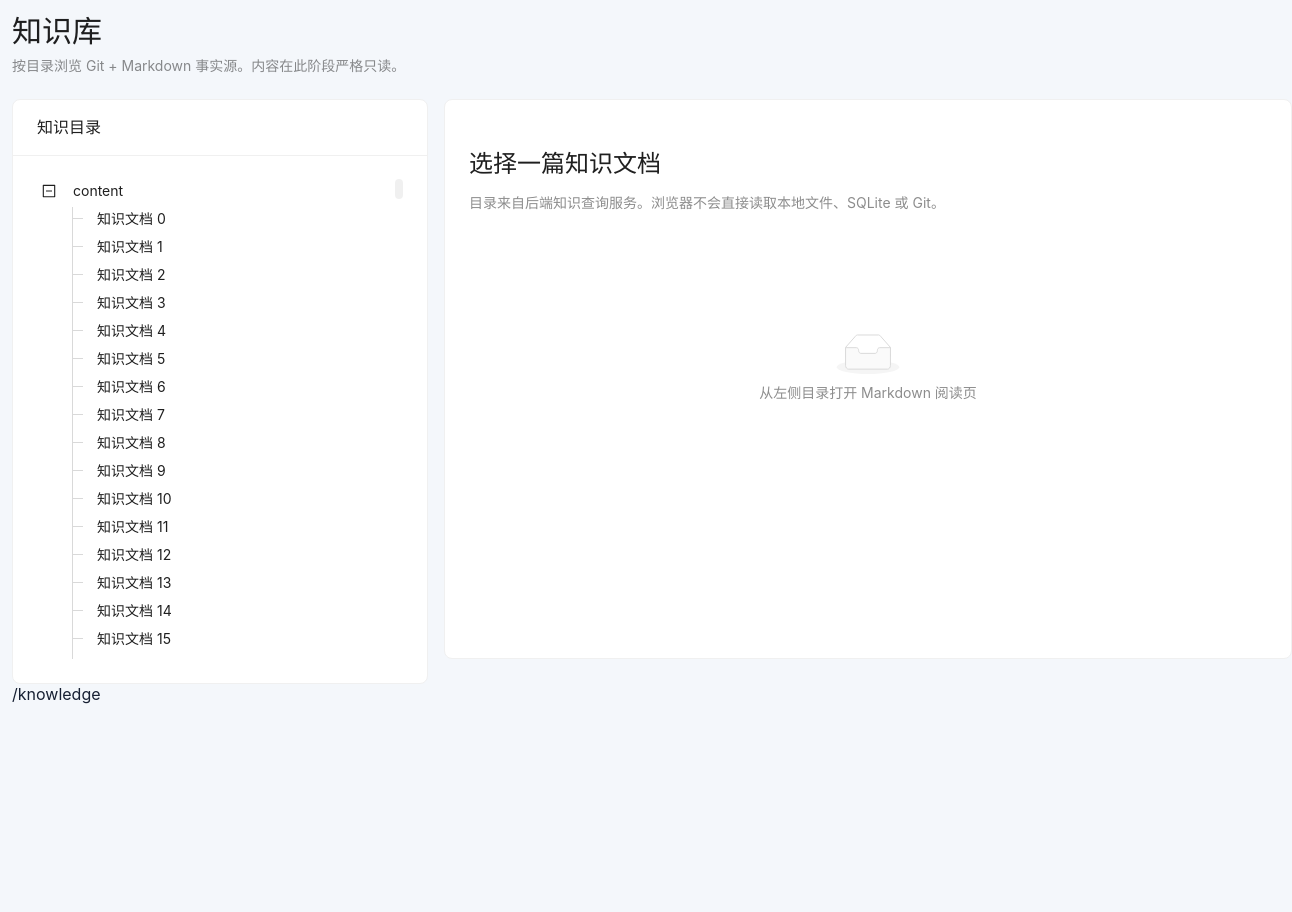
KnowledgePage › 虚拟化后仍可选择可见文档并通过逻辑 ID 打开详情
The width and height of the screenshot is (1292, 912).
What coordinates should you click on to do the following:
click the text "知识文档 0"
I would click on:
 (131, 218)
Its box is x1=97 y1=210 x2=166 y2=227.
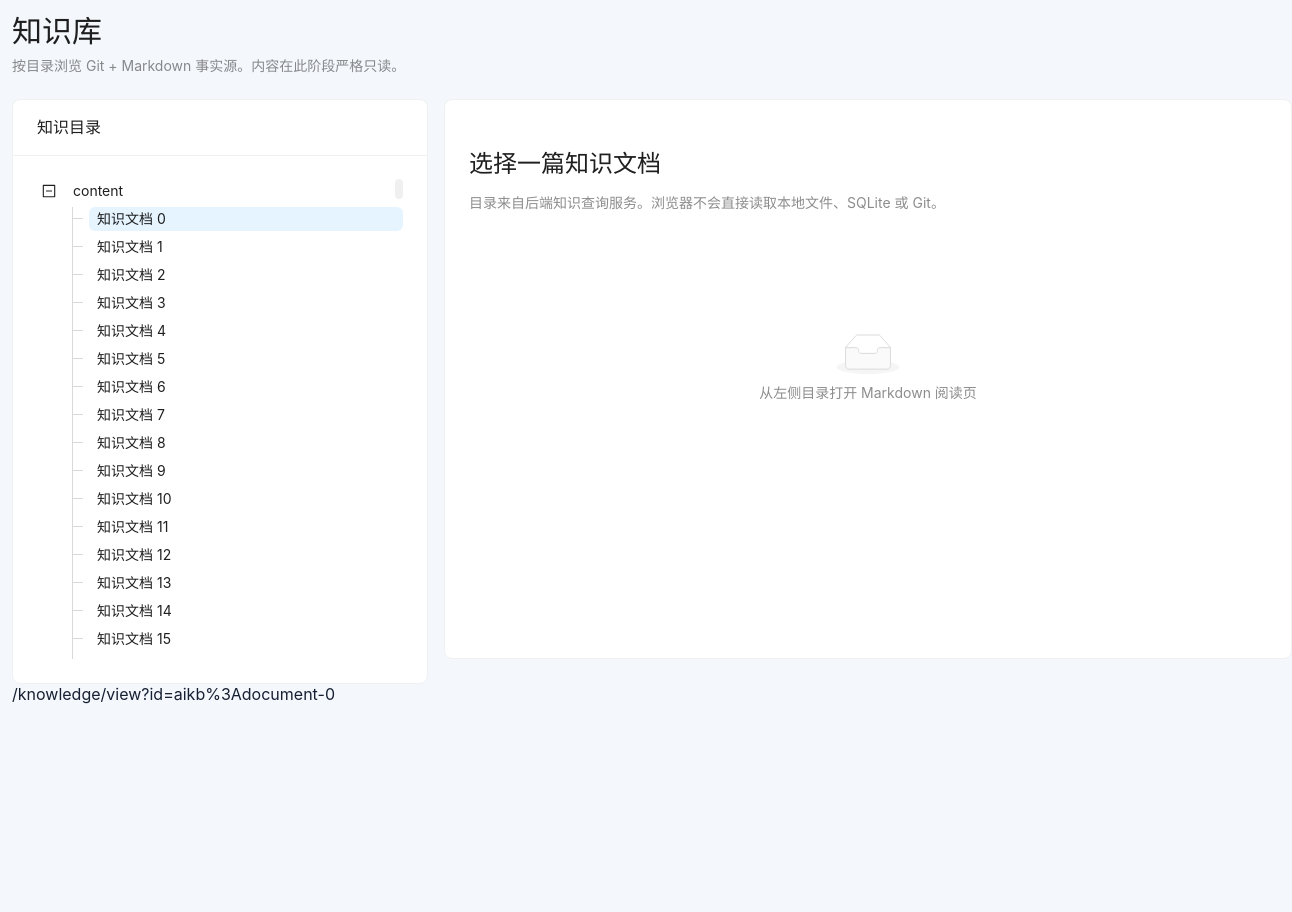
Expected: the text with test id "location" reads "/knowledge/view?id=aikb%3Adocument-0", x1=12 y1=684 x2=335 y2=704
